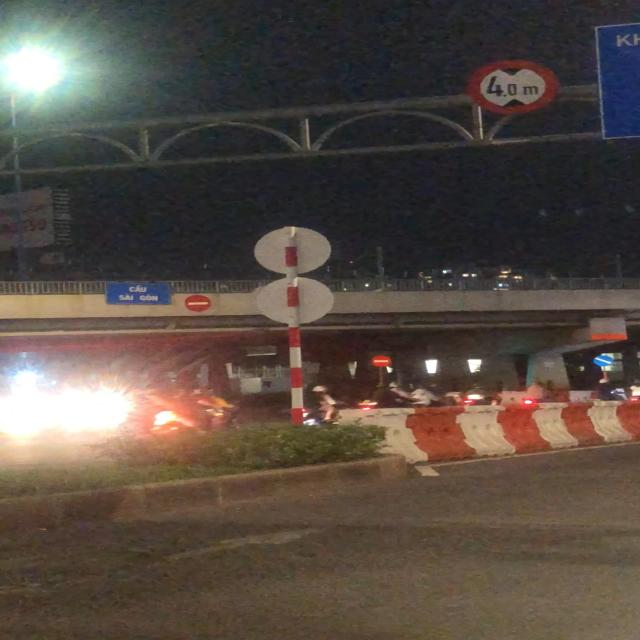Bien bao cam di nguoc chieu: (184, 292, 216, 314), (368, 355, 394, 368)
Bien bao han che chieu cao: (466, 60, 560, 114)
Bien bao huong phai di vong chuong ngai vat: (593, 354, 618, 368)
